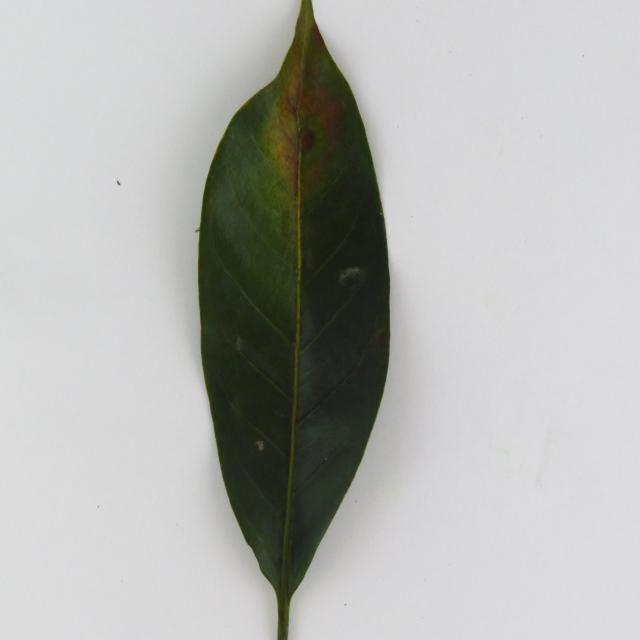DeficienciaNutricional-Fosforo: (199, 0, 390, 638)
